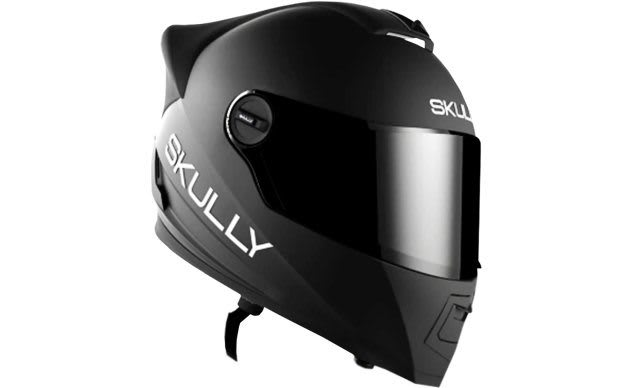with_helmet: (143, 1, 486, 388)
